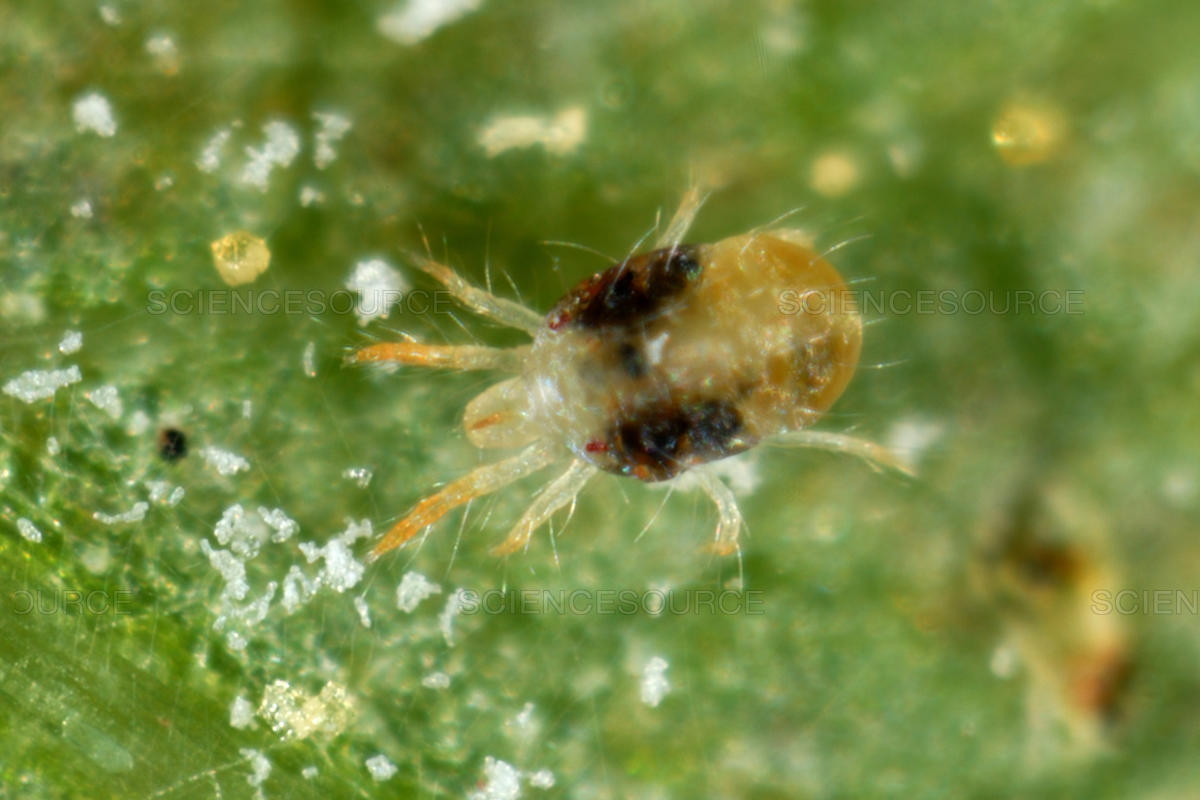Mites: (338, 214, 897, 638)
